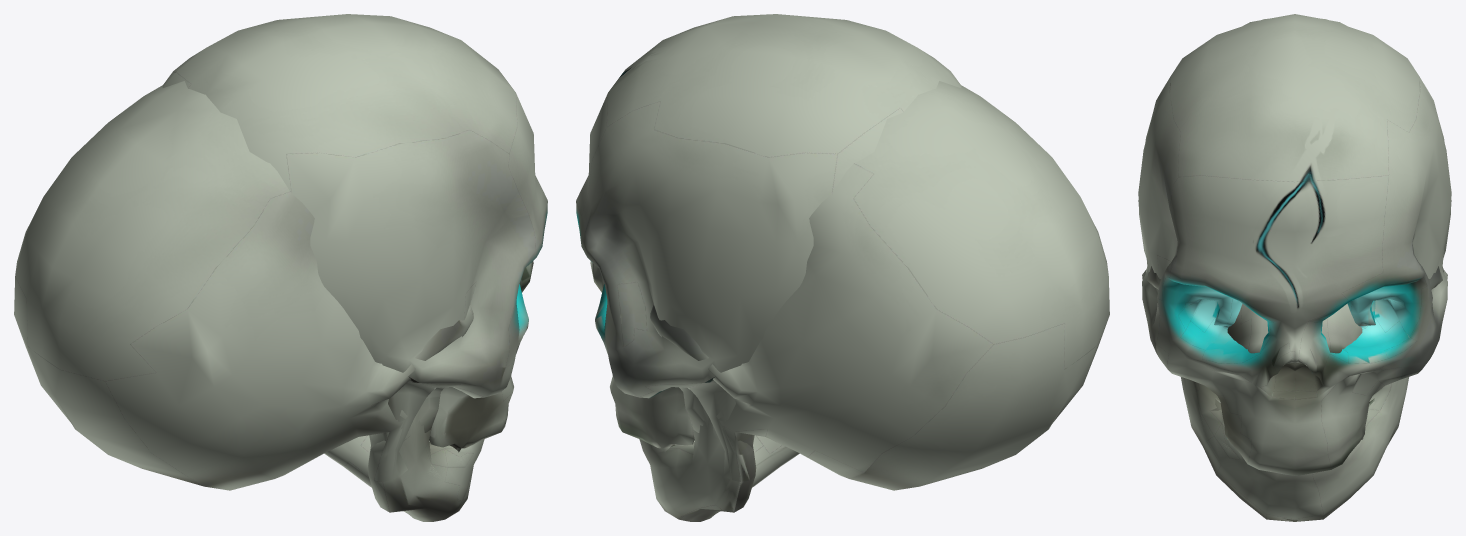
Rendered from SKULL_2.fbx.
3 views of the same model, side by side, from view 1: azimuth 30°, elevation 25°; view 2: azimuth 150°, elevation 25°; view 3: azimuth 270°, elevation 25° (orthographic). The views are drawn at different scales.
Parts seen in each view (by area): view 1: Skull.001, Skull.002; view 2: Skull.001, Skull.002; view 3: Skull.002, Skull.001.
Part boxes in pixels (bbox=[...]): Skull.001: bbox=[14, 81, 484, 521]; Skull.002: bbox=[162, 14, 547, 521]; Skull.001: bbox=[639, 81, 1109, 521]; Skull.002: bbox=[576, 14, 961, 518]; Skull.002: bbox=[1138, 15, 1451, 512]; Skull.001: bbox=[1138, 14, 1451, 521].
Bounding box in the file's own units: 962 × 946 × 614.
Materials: 1 (1 with a texture image).
